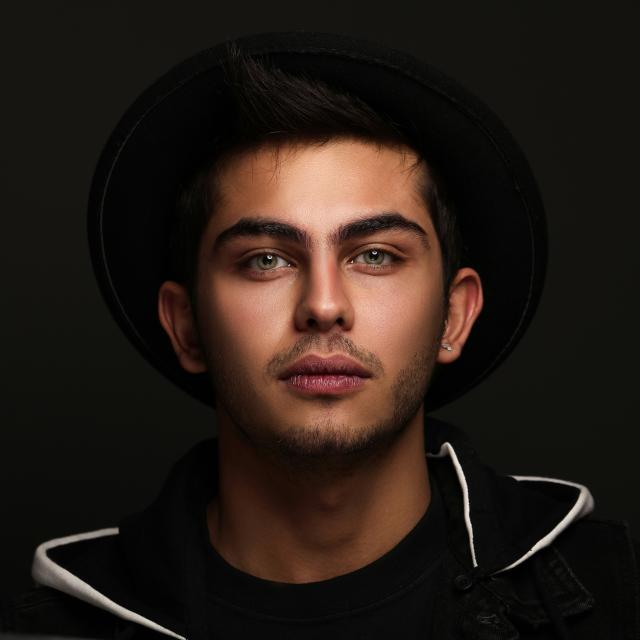human: (21, 79, 640, 639)
